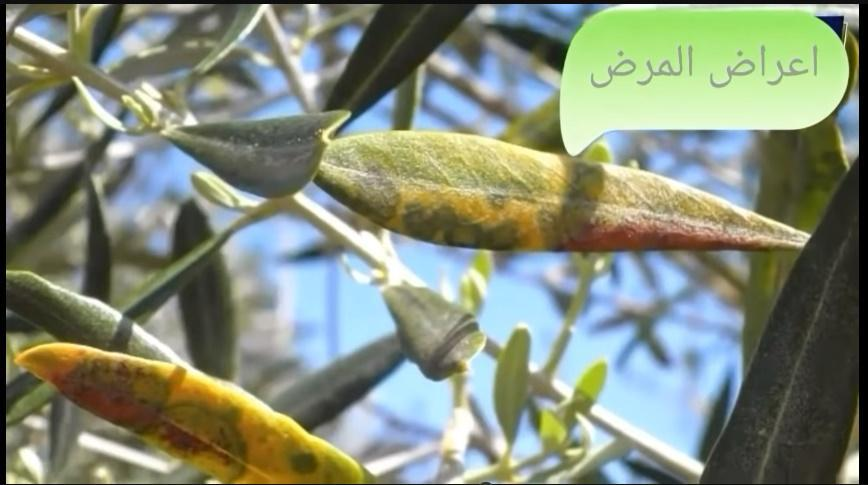OlivePeacockSpot: (327, 130, 807, 258), (14, 339, 371, 481)
